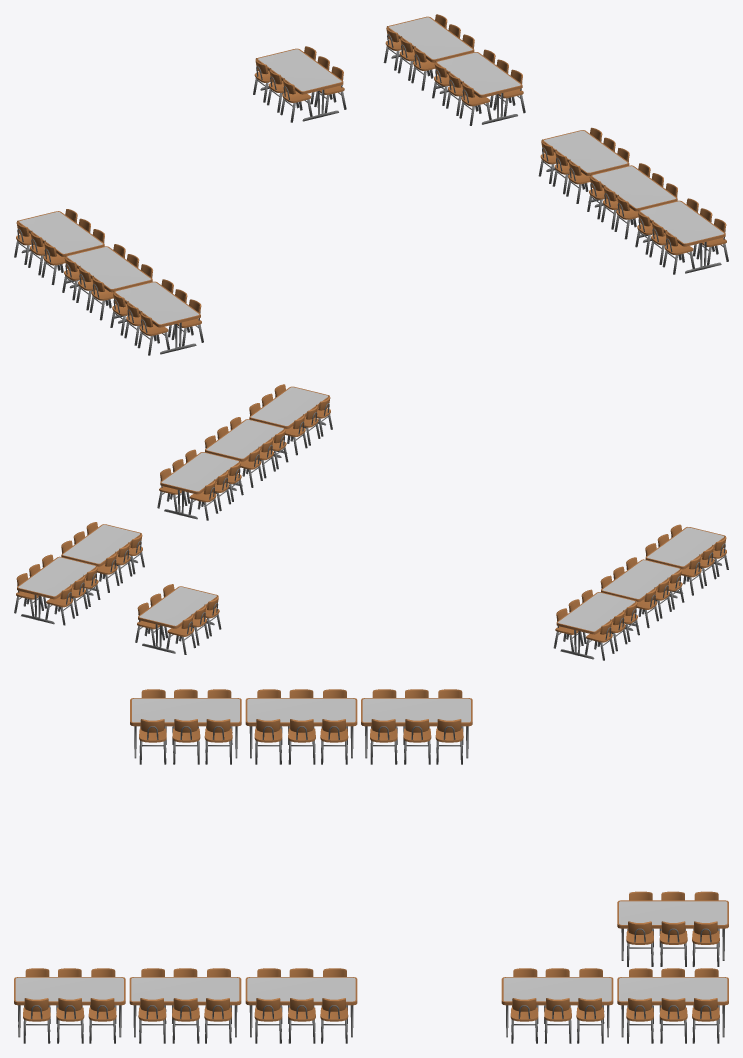
The model's file is d-roomcomp-r8-mensa-in.glb.
3 renders of one model, top to bottom at view 1: azimuth 30°, elevation 25°; view 2: azimuth 150°, elevation 25°; view 3: azimuth 270°, elevation 25°, orthographic. The views are drawn at different scales.
Visible parts, largest first — view 1: beegTable.028, beegTable.017, beegTable.022, beegTable.016, beegTable.025, beegTable.015, beegTable.027, beegTable.021, beegTable.029; view 2: beegTable.017, beegTable.029, beegTable.015, beegTable.025, beegTable.016, beegTable.021, beegTable.022, beegTable.028, beegTable.027; view 3: beegTable.027, beegTable.025, beegTable.016, beegTable.021, beegTable.029, beegTable.022, beegTable.028, beegTable.015, beegTable.017.
Part boxes in pixels (x1=…): beegTable.028: x1=110, y1=279, x2=203, y2=355; beegTable.017: x1=253, y1=46, x2=346, y2=122; beegTable.022: x1=635, y1=198, x2=728, y2=274; beegTable.016: x1=432, y1=49, x2=525, y2=125; beegTable.025: x1=538, y1=127, x2=629, y2=203; beegTable.015: x1=383, y1=14, x2=474, y2=90; beegTable.027: x1=62, y1=244, x2=152, y2=320; beegTable.021: x1=587, y1=163, x2=677, y2=239; beegTable.029: x1=14, y1=209, x2=104, y2=284; beegTable.017: x1=135, y1=584, x2=221, y2=654; beegTable.029: x1=553, y1=589, x2=639, y2=660; beegTable.015: x1=14, y1=554, x2=100, y2=625; beegTable.025: x1=157, y1=449, x2=243, y2=520; beegTable.016: x1=61, y1=522, x2=144, y2=592; beegTable.021: x1=204, y1=417, x2=288, y2=487; beegTable.022: x1=249, y1=384, x2=332, y2=455; beegTable.028: x1=645, y1=524, x2=728, y2=595; beegTable.027: x1=600, y1=557, x2=684, y2=628; beegTable.027: x1=245, y1=689, x2=357, y2=764; beegTable.025: x1=245, y1=968, x2=357, y2=1043; beegTable.016: x1=501, y1=968, x2=613, y2=1043; beegTable.021: x1=129, y1=968, x2=241, y2=1043; beegTable.029: x1=361, y1=689, x2=472, y2=764; beegTable.022: x1=14, y1=968, x2=125, y2=1043; beegTable.028: x1=130, y1=689, x2=241, y2=764; beegTable.015: x1=617, y1=968, x2=728, y2=1043; beegTable.017: x1=617, y1=891, x2=728, y2=966.
Bounding box in the file's own units: 16.13 × 1.07 × 15.62.
Materials: 1 (1 with a texture image).
